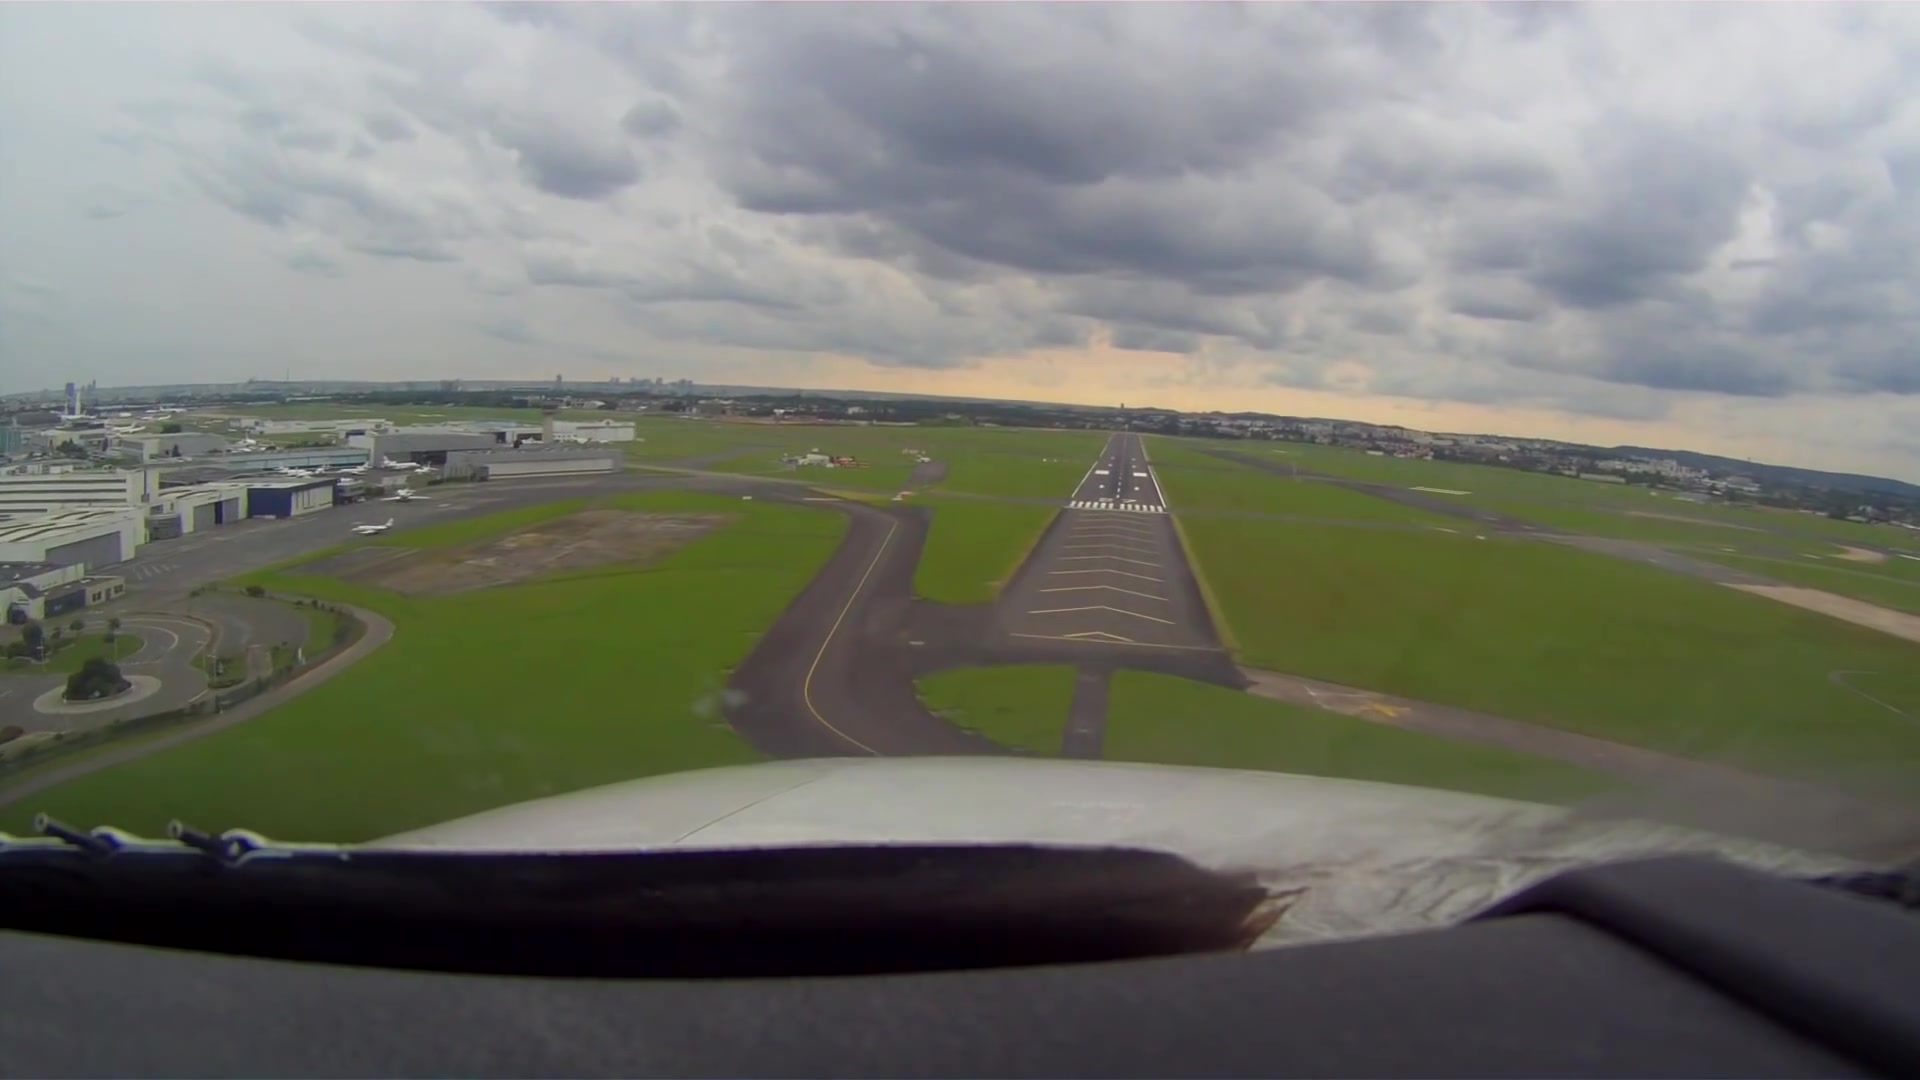entrance: (1067, 500, 1166, 514)
runway: (1062, 429, 1175, 518)
